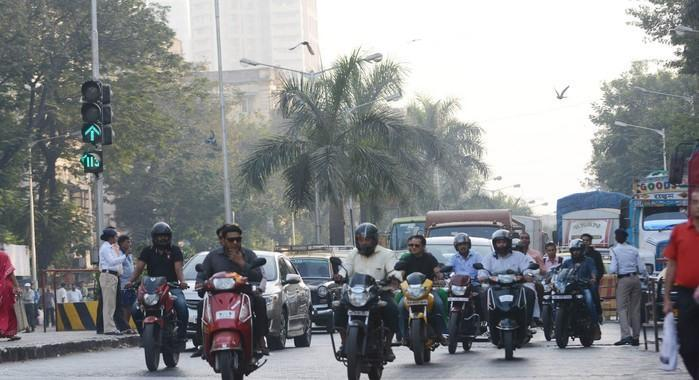MotorCycle: (198, 270, 263, 380), (330, 272, 392, 380), (123, 275, 188, 372), (485, 270, 533, 361), (399, 270, 440, 368), (446, 273, 482, 362)
